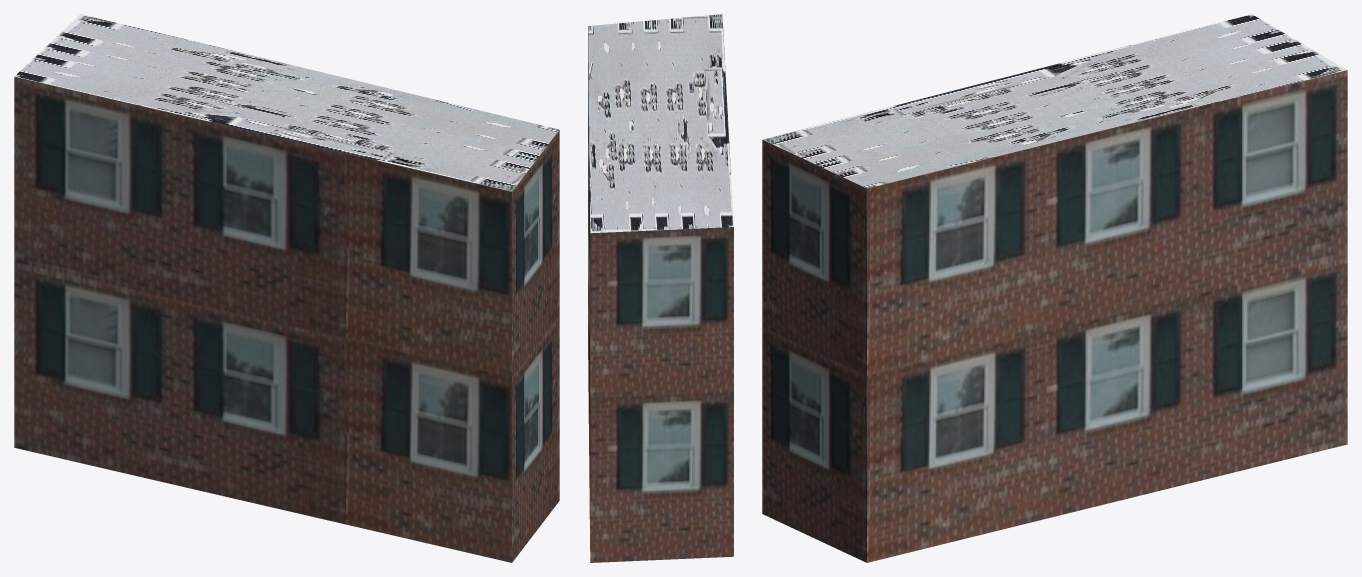
Rendered from ResTex__1456.fbx.
The picture shows the model from 3 angles, left to right: view 1: azimuth 30°, elevation 25°; view 2: azimuth 150°, elevation 25°; view 3: azimuth 270°, elevation 25°; orthographic projection. The views are drawn at different scales.
Parts seen in each view (by area): view 1: CityEngineMaterial_14_m, CityEngineMaterial_m; view 2: CityEngineMaterial_14_m, CityEngineMaterial_m; view 3: CityEngineMaterial_14_m, CityEngineMaterial_m.
Part boxes in pixels (x1=…): CityEngineMaterial_14_m: x1=14, y1=76, x2=559, y2=562; CityEngineMaterial_m: x1=14, y1=14, x2=559, y2=191; CityEngineMaterial_14_m: x1=588, y1=30, x2=733, y2=562; CityEngineMaterial_m: x1=588, y1=14, x2=733, y2=233; CityEngineMaterial_14_m: x1=762, y1=70, x2=1347, y2=562; CityEngineMaterial_m: x1=763, y1=14, x2=1346, y2=188.
Bounding box in the file's own units: 6 × 6 × 8.5.
Materials: 2 (2 with a texture image).
